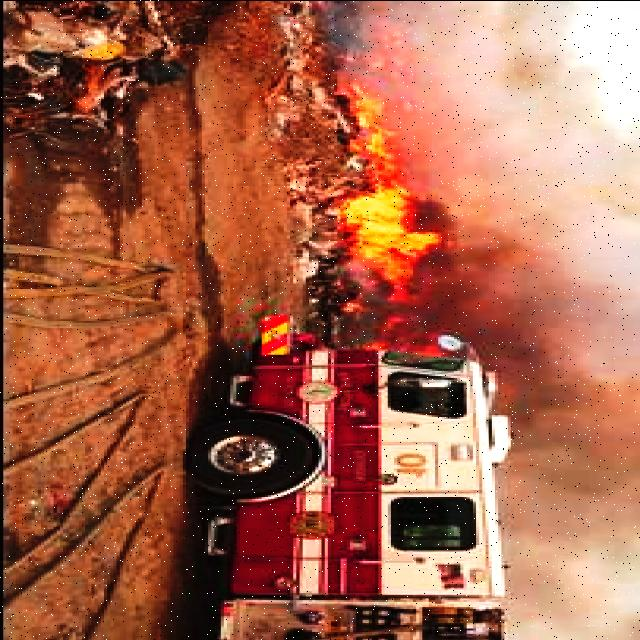api: (333, 58, 447, 298)
asap: (389, 192, 640, 515), (345, 2, 640, 218)
